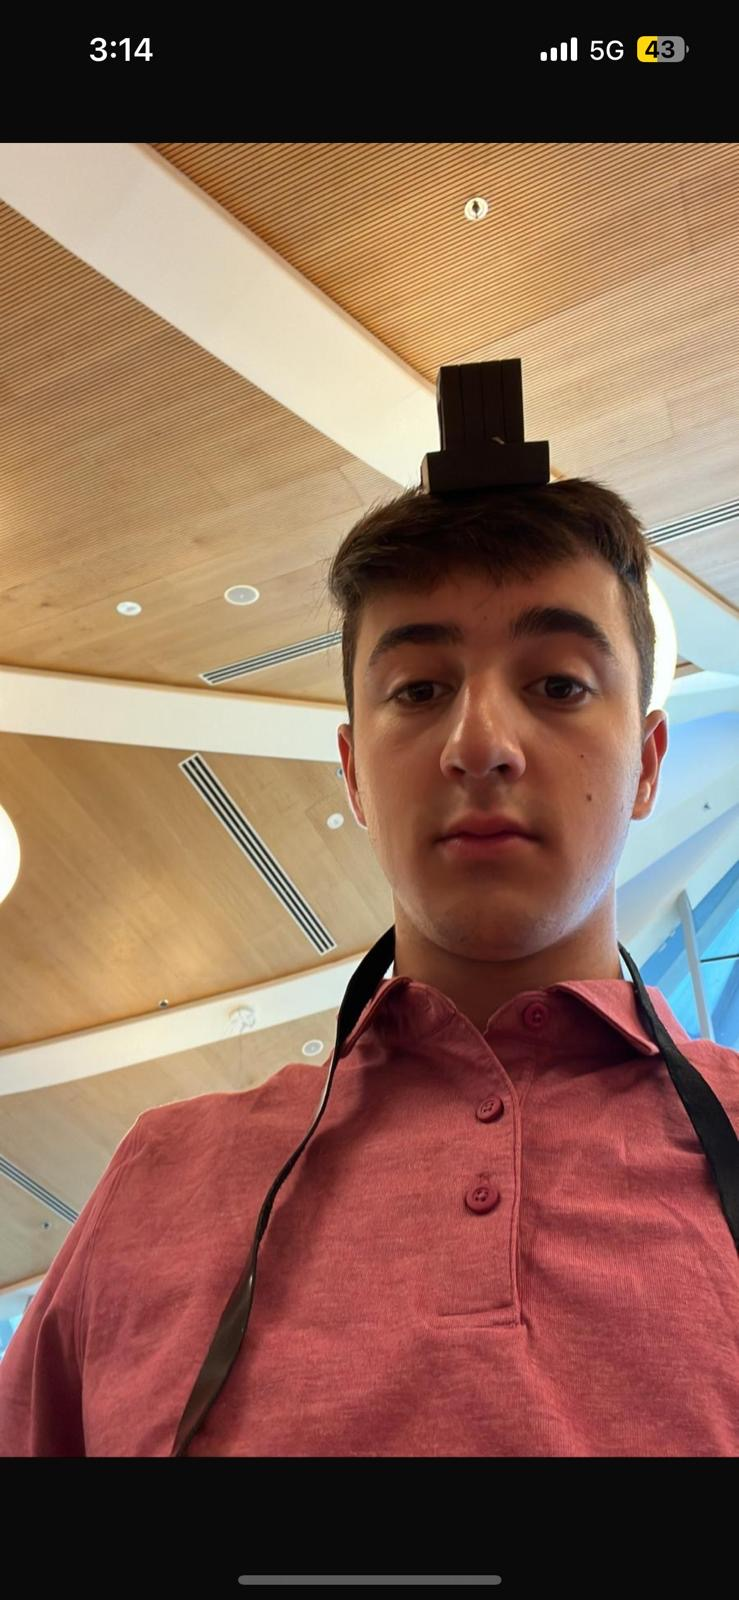tefillin: (420, 359, 555, 502)
